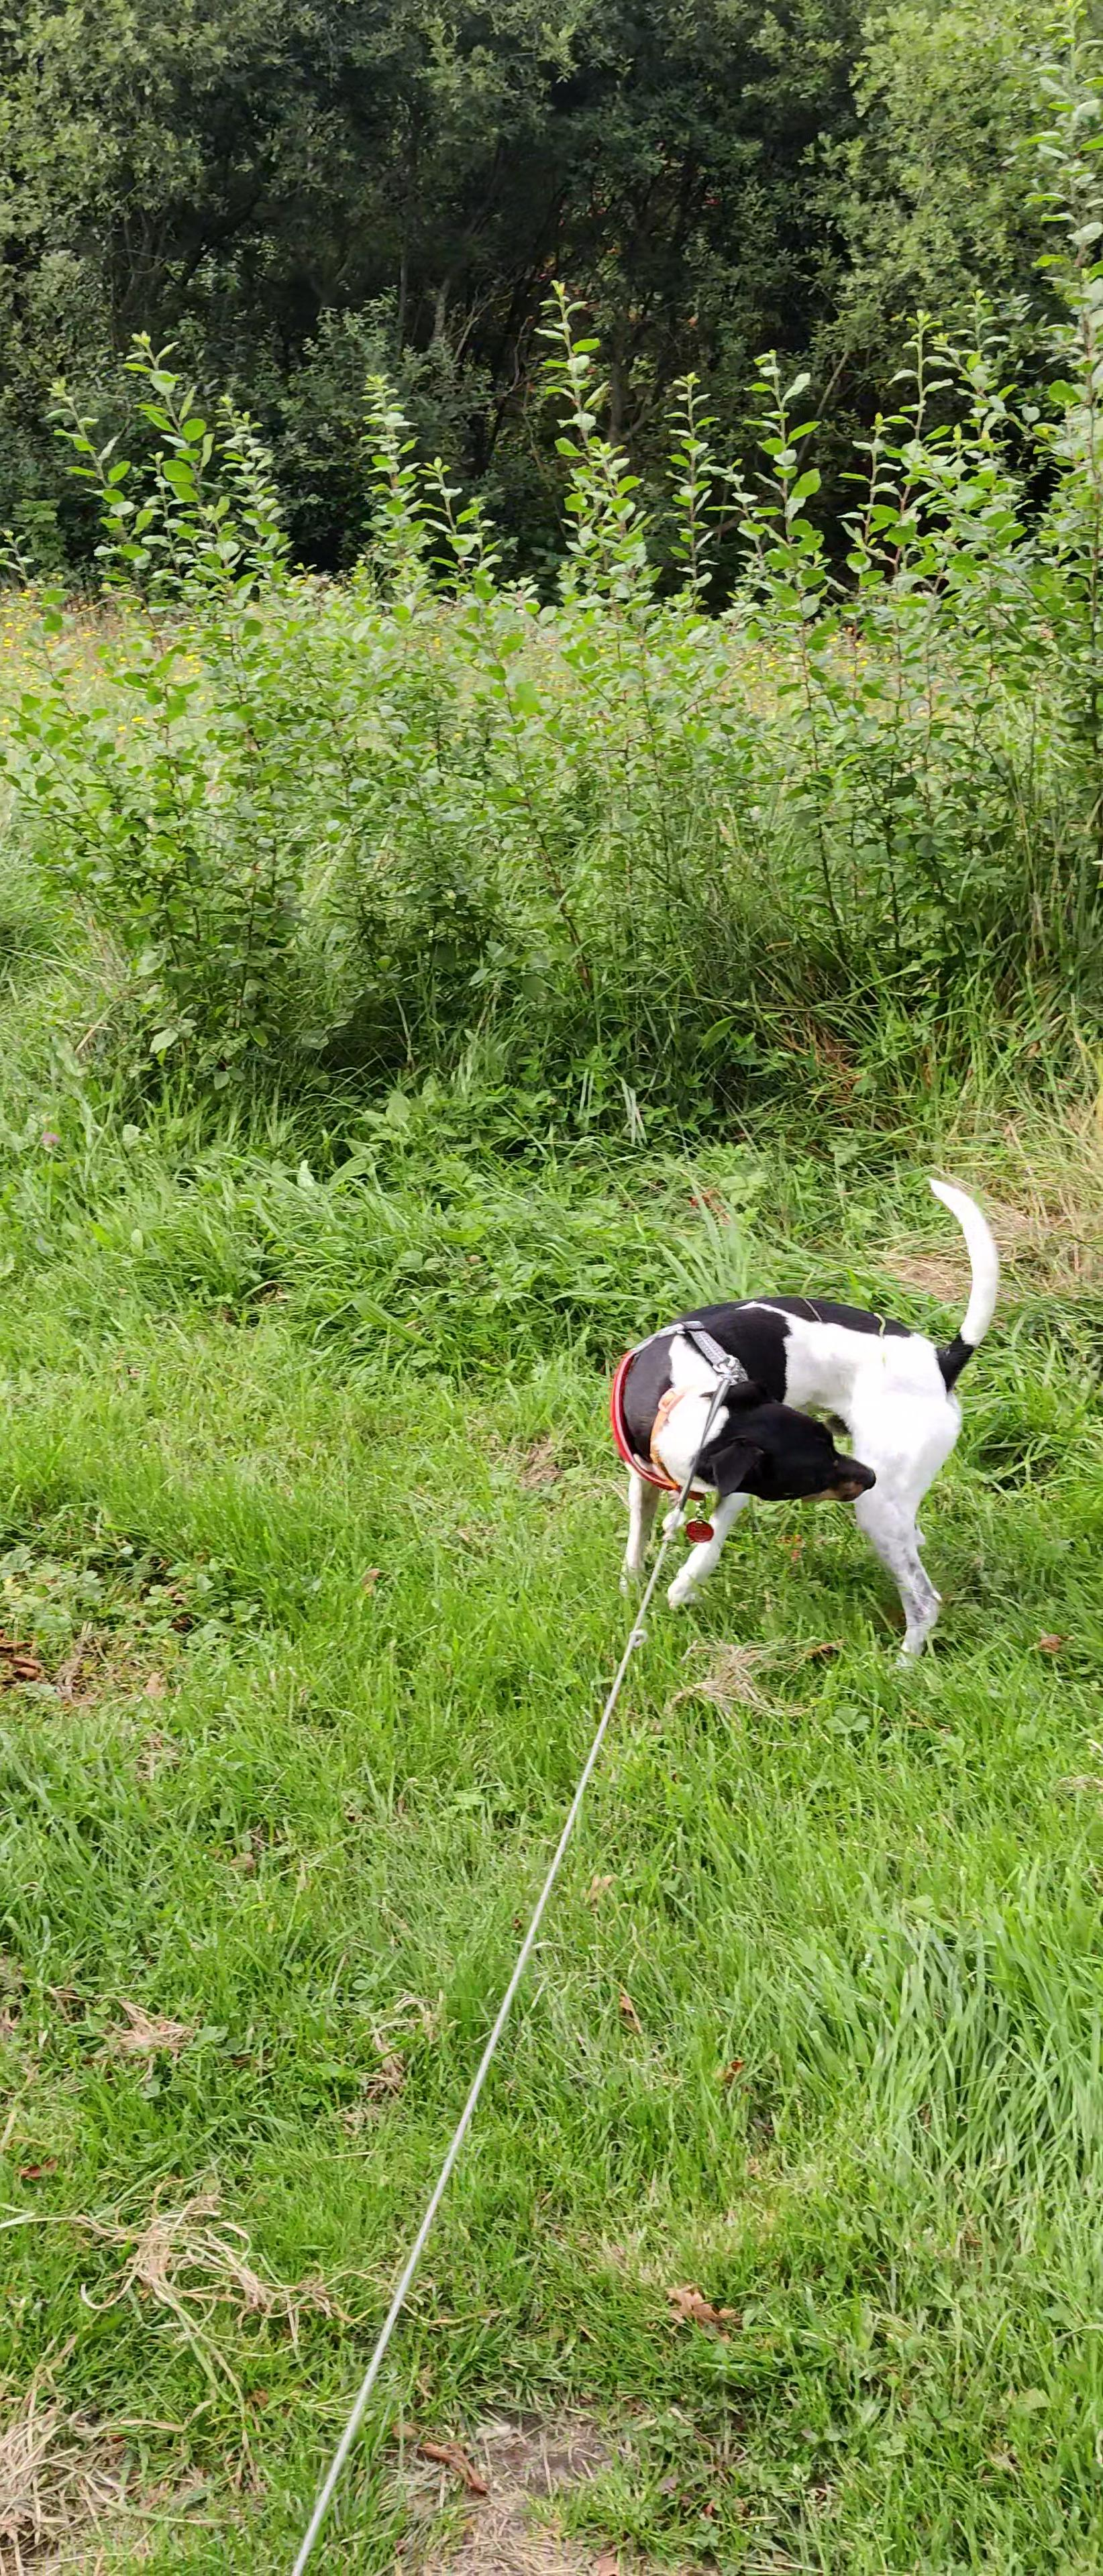Dog: (602, 1180, 1001, 1672)
